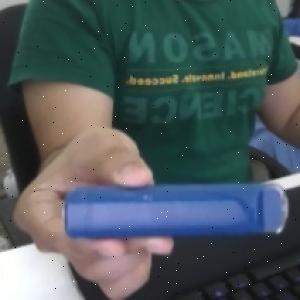Diamond-E-Ciggirate: (60, 180, 292, 239)
